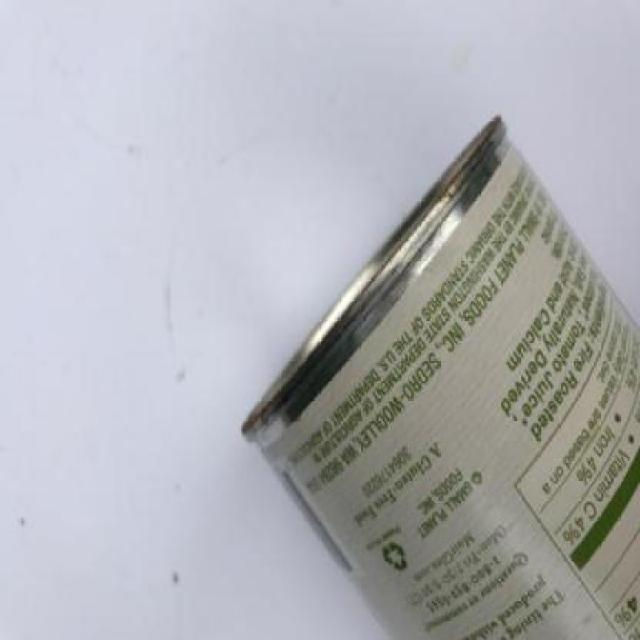METAL: (238, 114, 638, 638)
